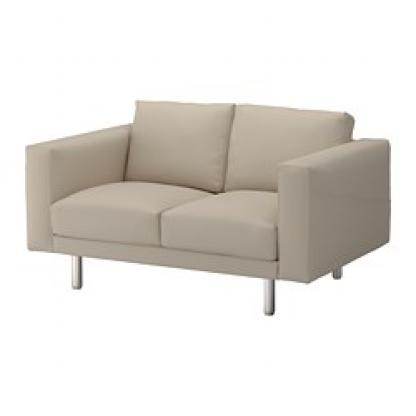Sofa: (20, 87, 391, 321)
